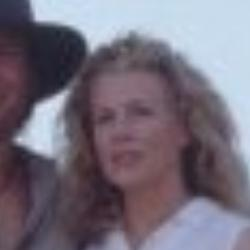face: (61, 37, 245, 227)
